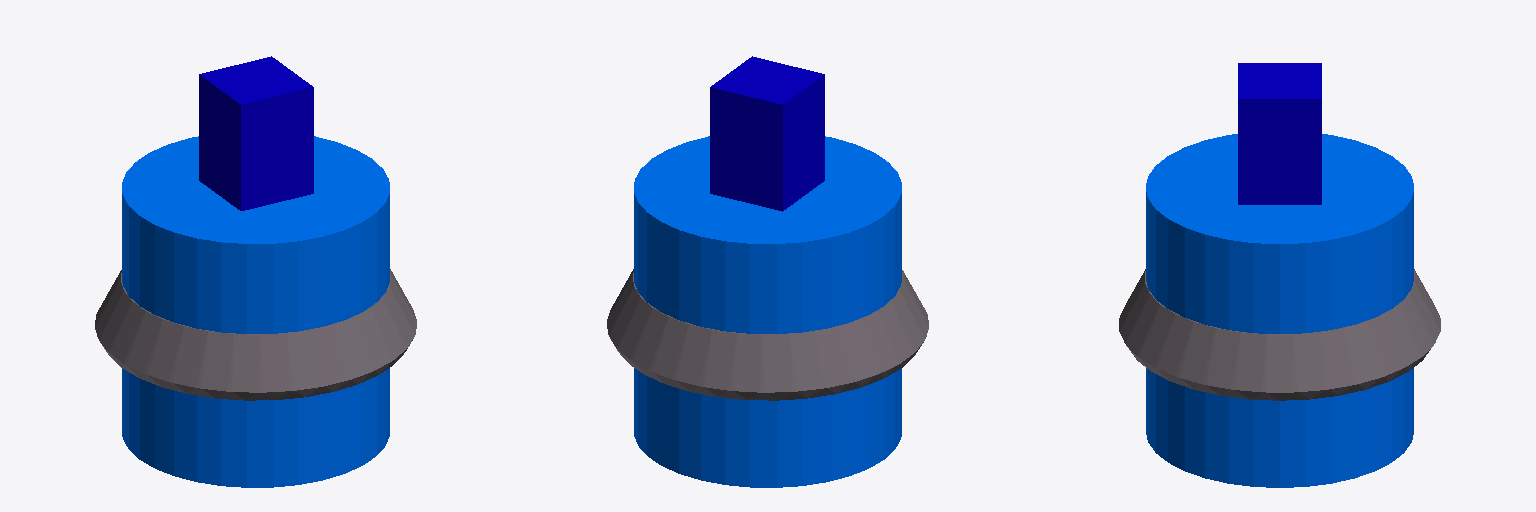
File: HapticDevice.obj
3 views of the same model, side by side, from view 1: azimuth 30°, elevation 25°; view 2: azimuth 150°, elevation 25°; view 3: azimuth 270°, elevation 25° (orthographic).
Visible parts, largest first — view 1: 1Top_Top_Mesh, 0Base_Base_Mesh, 2Arm1_Arm1_Mesh; view 2: 1Top_Top_Mesh, 0Base_Base_Mesh, 2Arm1_Arm1_Mesh; view 3: 1Top_Top_Mesh, 0Base_Base_Mesh, 2Arm1_Arm1_Mesh.
Part boxes in pixels (x1,y1,x2,y2): 1Top_Top_Mesh: (122, 136, 389, 487); 0Base_Base_Mesh: (95, 269, 416, 400); 2Arm1_Arm1_Mesh: (199, 56, 313, 210); 1Top_Top_Mesh: (634, 136, 901, 487); 0Base_Base_Mesh: (607, 269, 928, 400); 2Arm1_Arm1_Mesh: (710, 56, 824, 211); 1Top_Top_Mesh: (1146, 134, 1413, 487); 0Base_Base_Mesh: (1119, 269, 1440, 400); 2Arm1_Arm1_Mesh: (1238, 63, 1321, 204).
Size of the model in its own units: 1.91 by 2.3 by 1.91.